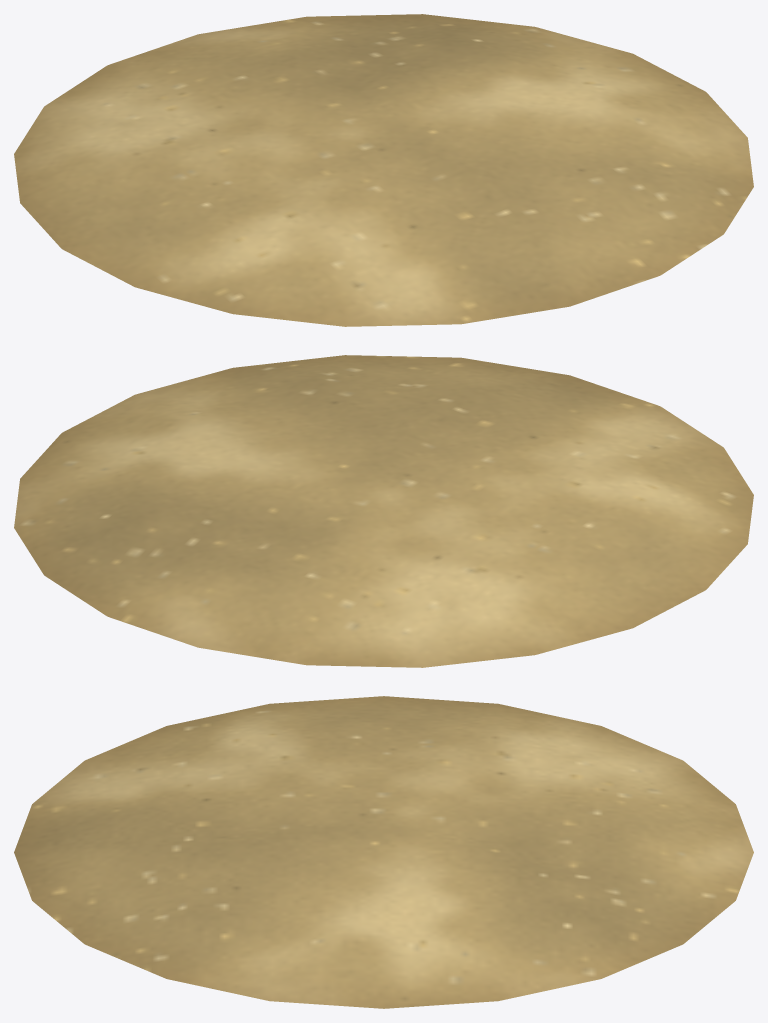
File: bowl_fill_porridge.glb
The picture shows the model from 3 angles, top to bottom: view 1: azimuth 30°, elevation 25°; view 2: azimuth 150°, elevation 25°; view 3: azimuth 270°, elevation 25°; orthographic projection.
Parts seen in each view (by area): view 1: BOWL_FILL_PORRIDGE; view 2: BOWL_FILL_PORRIDGE; view 3: BOWL_FILL_PORRIDGE.
Boxes of the visible parts, x1,y1,x2,y2 form: BOWL_FILL_PORRIDGE: [14, 14, 753, 326]; BOWL_FILL_PORRIDGE: [14, 355, 753, 667]; BOWL_FILL_PORRIDGE: [14, 696, 753, 1008].
Size of the model in its own units: 0.2002 by 0.0255 by 0.2002.
1 material, 1 textured.
